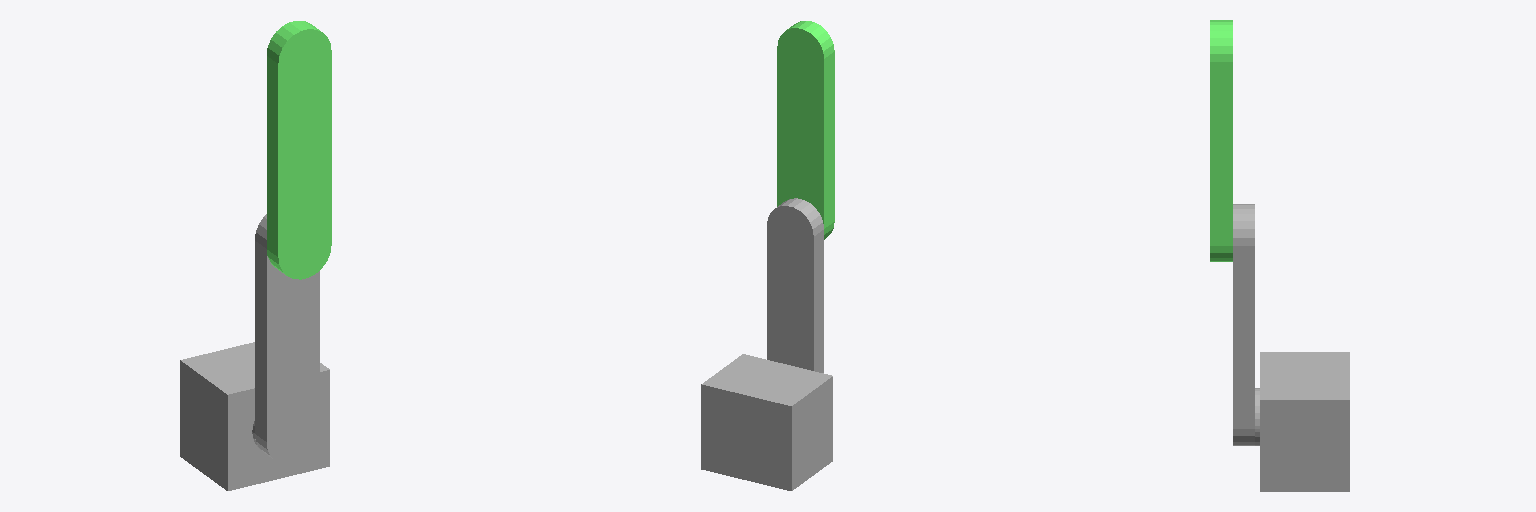
robot.urdf — S2R_Sim_L1.SLDASM:
<?xml version="1.0" encoding="utf-8"?>
<!-- This URDF was automatically created by SolidWorks to URDF Exporter! Originally created by Stephen Brawner (brawner@gmail.com) 
     Commit Version: 1.6.0-4-g7f85cfe  Build Version: 1.6.7995.38578
     For more information, please see http://wiki.ros.org/sw_urdf_exporter -->
<robot
  name="S2R_Sim_L1.SLDASM">
  <link
    name="base">
    <inertial>
      <origin
        xyz="-7.39571337827187E-18 0.0450583042305824 0.000489755536891761"
        rpy="0 0 0" />
      <mass
        value="0.728494866535307" />
      <inertia
        ixx="0.000886467061598883"
        ixy="1.84391129878781E-20"
        ixz="2.41616758039883E-21"
        iyy="0.00100025716636879"
        iyz="-1.76311993281026E-06"
        izz="0.00108908116011903" />
    </inertial>
    <visual>
      <origin
        xyz="0 0 0"
        rpy="0 0 0" />
      <geometry>
        <mesh
          filename="package://S2R_Sim_L1.SLDASM/meshes/base.STL" />
      </geometry>
      <material
        name="">
        <color
          rgba="0.752941176470588 0.752941176470588 0.752941176470588 1" />
      </material>
    </visual>
    <collision>
      <origin
        xyz="0 0 0"
        rpy="0 0 0" />
      <geometry>
        <mesh
          filename="package://S2R_Sim_L1.SLDASM/meshes/base.STL" />
      </geometry>
    </collision>
  </link>
  <link
    name="fixed_pole">
    <inertial>
      <origin
        xyz="5.16316347733174E-19 0.09 0.01"
        rpy="0 0 0" />
      <mass
        value="0.229674332676534" />
      <inertia
        ixx="0.000948680867991478"
        ixy="2.23899042390887E-20"
        ixz="1.12666892597887E-21"
        iyy="5.70163733115521E-05"
        iyz="7.09831256318838E-22"
        izz="0.000990385619124594" />
    </inertial>
    <visual>
      <origin
        xyz="0 0 0"
        rpy="0 0 0" />
      <geometry>
        <mesh
          filename="package://S2R_Sim_L1.SLDASM/meshes/fixed_pole.STL" />
      </geometry>
      <material
        name="">
        <color
          rgba="0.752941176470588 0.752941176470588 0.752941176470588 1" />
      </material>
    </visual>
    <collision>
      <origin
        xyz="0 0 0"
        rpy="0 0 0" />
      <geometry>
        <mesh
          filename="package://S2R_Sim_L1.SLDASM/meshes/fixed_pole.STL" />
      </geometry>
    </collision>
  </link>
  <joint
    name="base_to_fixed"
    type="continuous">
    <origin
      xyz="0 -0.044 0.05"
      rpy="1.5707963267949 0 0" />
    <parent
      link="base" />
    <child
      link="fixed_pole" />
    <axis
      xyz="0 0 1" />
  </joint>
  <link
    name="flex_pole_1">
    <inertial>
      <origin
        xyz="-1.27561806603782E-17 -0.09 0.01"
        rpy="0 0 0" />
      <mass
        value="0.229674332676534" />
      <inertia
        ixx="0.000948680867991477"
        ixy="-8.26156192211469E-20"
        ixz="1.12937726300576E-22"
        iyy="5.7016373311552E-05"
        iyz="4.46677530778638E-21"
        izz="0.000990385619124593" />
    </inertial>
    <visual>
      <origin
        xyz="0 0 0"
        rpy="0 0 0" />
      <geometry>
        <mesh
          filename="package://S2R_Sim_L1.SLDASM/meshes/flex_pole_1.STL" />
      </geometry>
      <material
        name="">
        <color
          rgba="0.501960784313725 1 0.501960784313725 1" />
      </material>
    </visual>
    <collision>
      <origin
        xyz="0 0 0"
        rpy="0 0 0" />
      <geometry>
        <mesh
          filename="package://S2R_Sim_L1.SLDASM/meshes/flex_pole_1.STL" />
      </geometry>
    </collision>
  </link>
  <joint
    name="fixed_to_flex_1"
    type="continuous">
    <origin
      xyz="0 0.18 0.02"
      rpy="0 0 -3.14159265358979" />
    <parent
      link="fixed_pole" />
    <child
      link="flex_pole_1" />
    <axis
      xyz="0 0 1" />
  </joint>
</robot>

--- Render facts (derived) ---
Views: 3 orthographic renders of the robot side by side, from view 1: azimuth 30°, elevation 25°; view 2: azimuth 150°, elevation 25°; view 3: azimuth 270°, elevation 25°.
Robot: S2R_Sim_L1.SLDASM — 3 links, 2 joints (2 continuous); root link base; default pose: every joint at zero.
Visible links, largest first — view 1: flex_pole_1, fixed_pole, base; view 2: base, flex_pole_1, fixed_pole; view 3: base, flex_pole_1, fixed_pole.
Boxes of the visible links, bbox=[...] form: flex_pole_1: bbox=[267, 21, 331, 279]; fixed_pole: bbox=[255, 214, 319, 463]; base: bbox=[180, 342, 329, 490]; base: bbox=[701, 354, 832, 490]; flex_pole_1: bbox=[777, 21, 834, 239]; fixed_pole: bbox=[767, 198, 823, 372]; base: bbox=[1255, 352, 1349, 491]; flex_pole_1: bbox=[1210, 20, 1232, 261]; fixed_pole: bbox=[1233, 204, 1254, 445].
Size in the robot's own frame: 0.1 by 0.124 by 0.4357 metres.
3 mesh visuals loaded from 3 distinct referenced files (3 binary STL).
